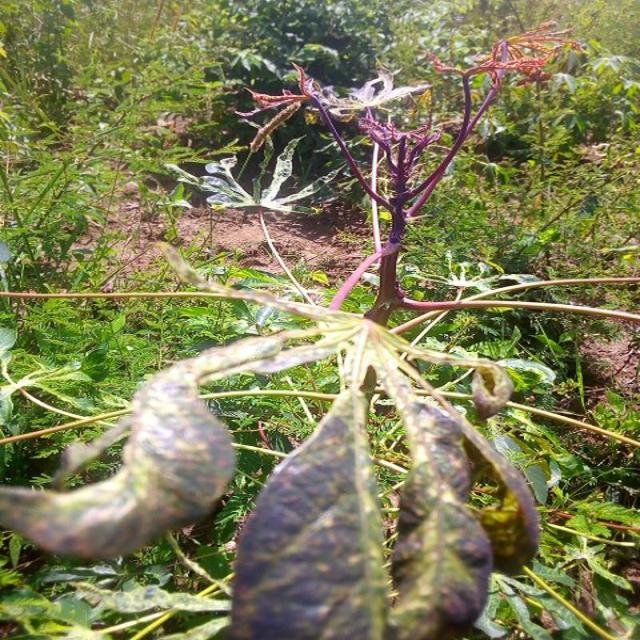cassava leaf: (0, 367, 237, 560), (229, 386, 395, 638), (386, 457, 492, 638)
